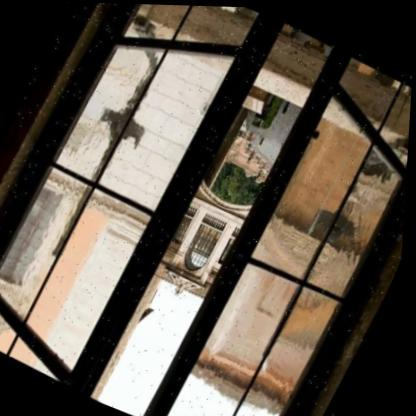Window: (0, 0, 264, 392), (162, 38, 414, 416)
